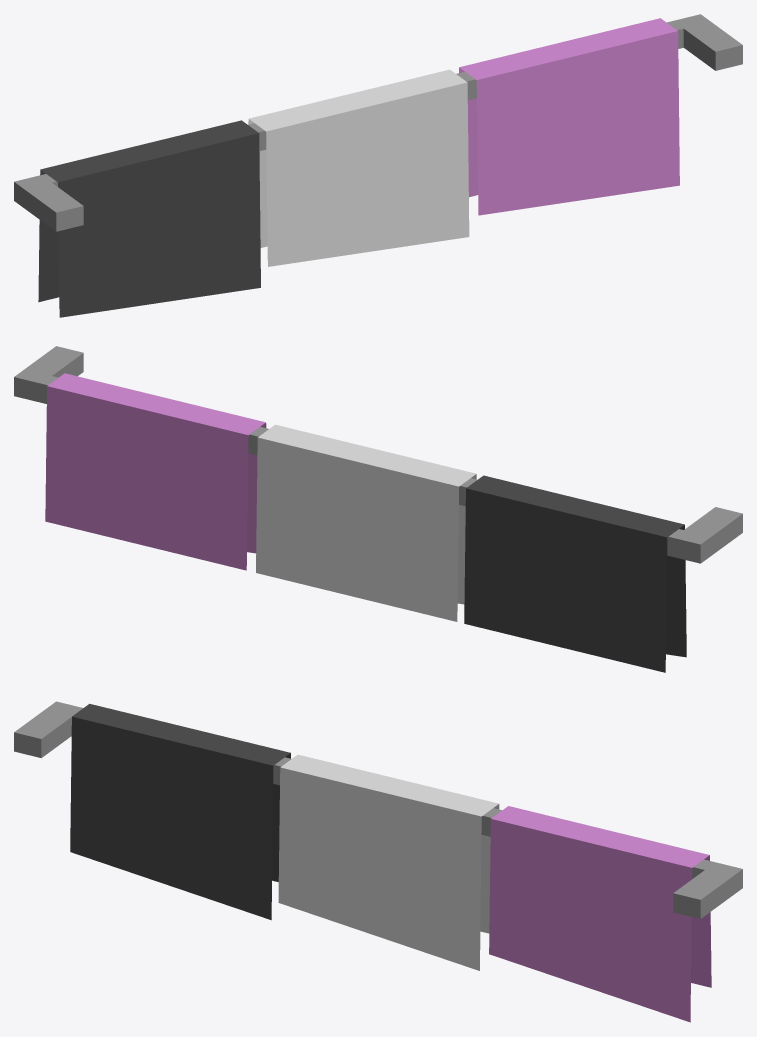
Rendered from clothes2.gltf.
The picture shows the model from 3 angles, top to bottom: view 1: azimuth 30°, elevation 25°; view 2: azimuth 150°, elevation 25°; view 3: azimuth 330°, elevation 25°; orthographic projection.
Visible parts, largest first — view 1: plane (×3), cuboid (×3); view 2: plane (×3), cuboid (×3); view 3: plane (×3), cuboid (×3).
Boxes of the visible parts, box(x1,y1,x2,y2) form: plane (×3): box(38, 18, 679, 317); cuboid (×3): box(14, 14, 742, 231); plane (×3): box(45, 373, 686, 672); cuboid (×3): box(14, 346, 742, 563); plane (×3): box(70, 703, 711, 1022); cuboid (×3): box(14, 701, 742, 918).
Bounding box in the file's own units: 0.4688 × 0.1 × 0.0563.
Materials: 1 (1 with a texture image).
